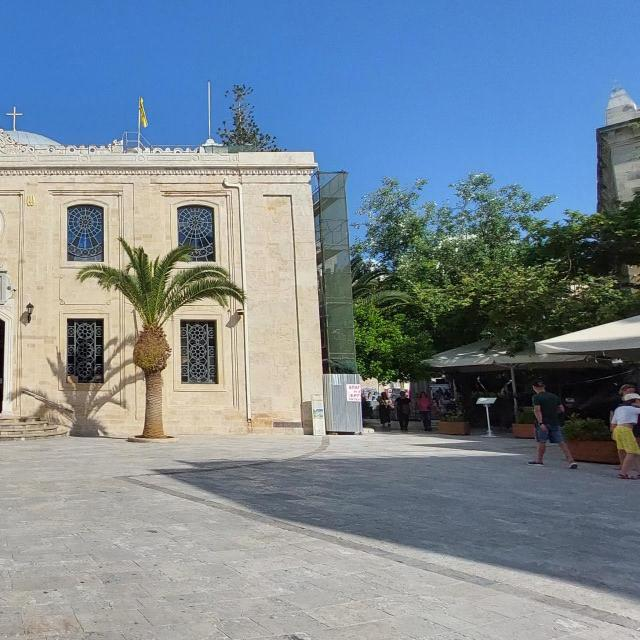Agios Titos: (1, 123, 329, 435)
